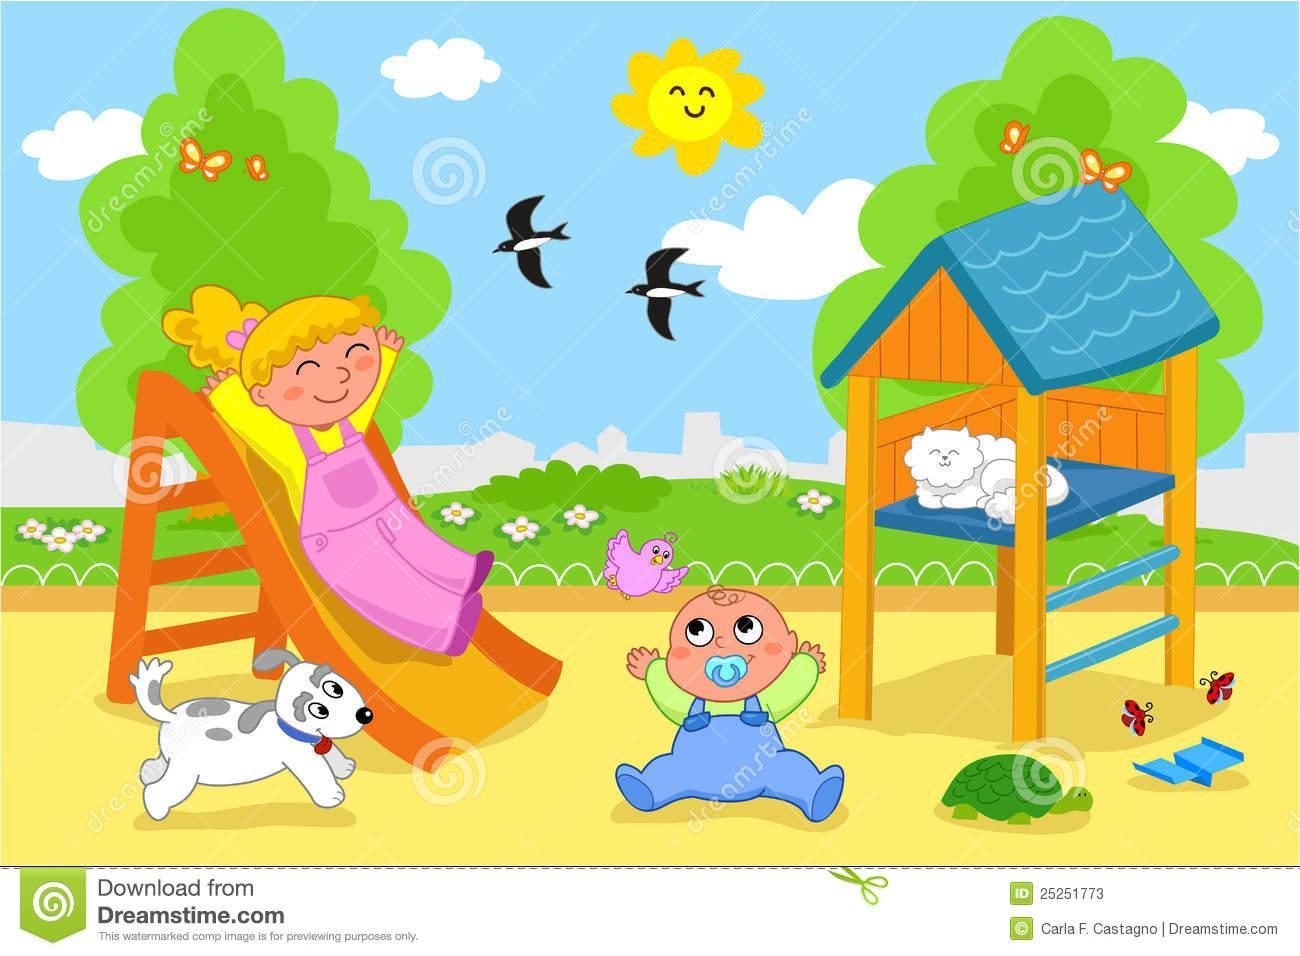bird: (613, 239, 717, 345), (480, 198, 572, 287), (604, 523, 691, 597)
cat: (898, 416, 1071, 528)
dog: (126, 647, 386, 816)
person: (146, 278, 495, 665), (601, 572, 853, 828)
